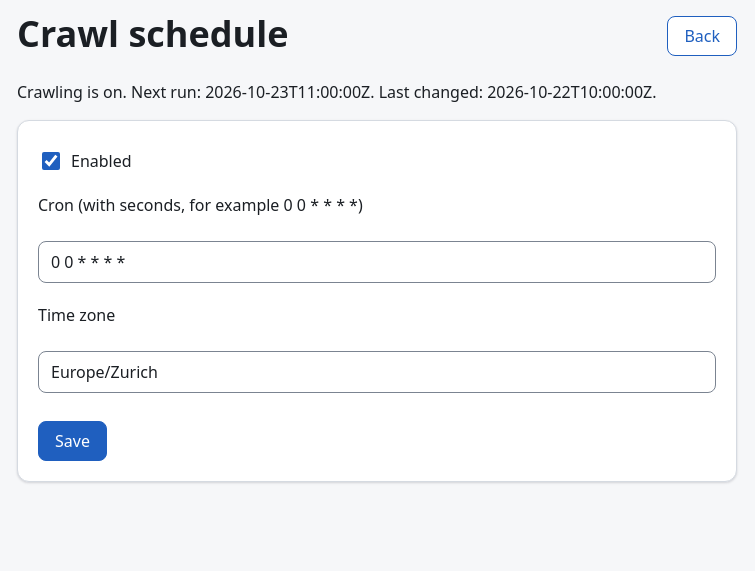
Scenario: changing the schedule › shows the rejection and keeps what was typed
Replace the text in the field labelled "Cron (with seconds, for example 0 0 * * * *)" with "* * * * * *" at (377, 262), box x1=38 y1=241 x2=716 y2=283
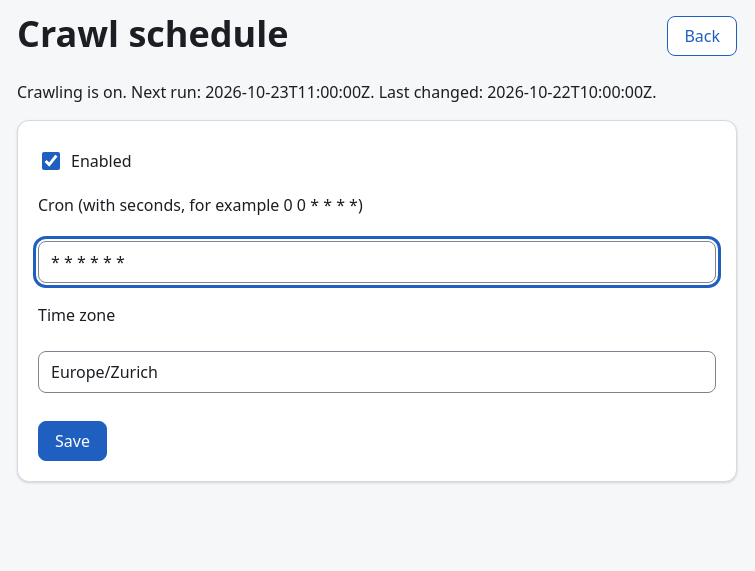
Click the button "Save" at (72, 441), box x1=38 y1=421 x2=107 y2=461
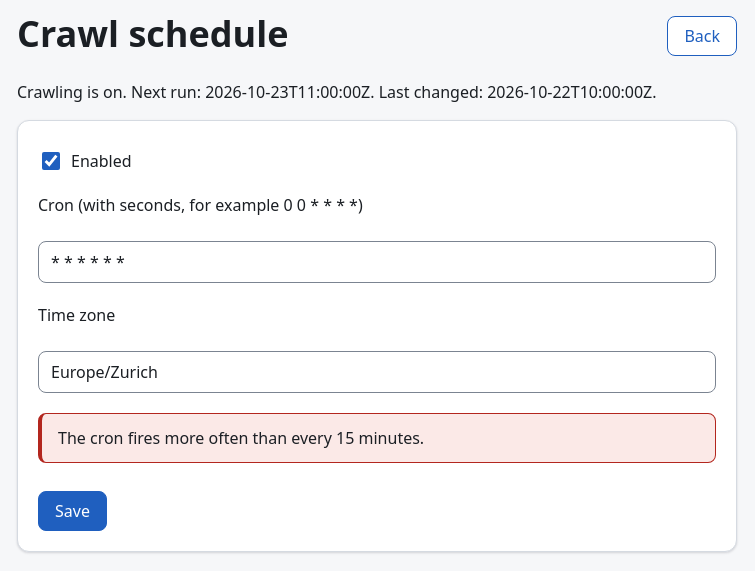
Result: the message shows "more often than every 15 minutes" at x1=58 y1=427 x2=424 y2=449
